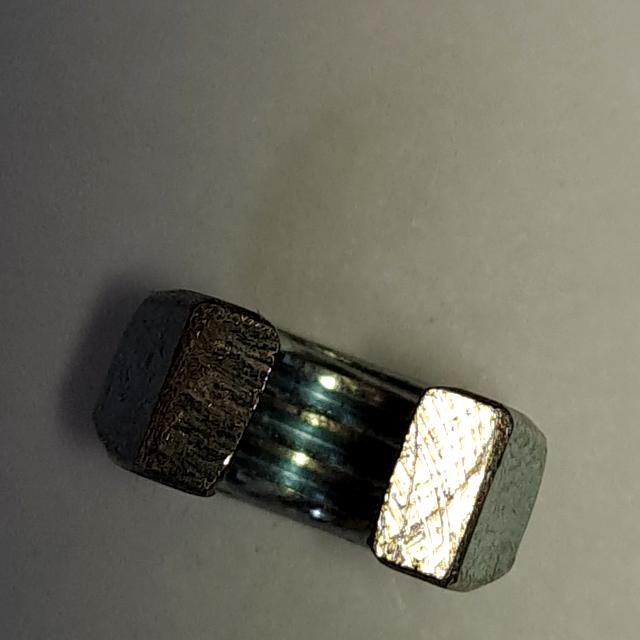Side-Fracture: (72, 261, 561, 611)
